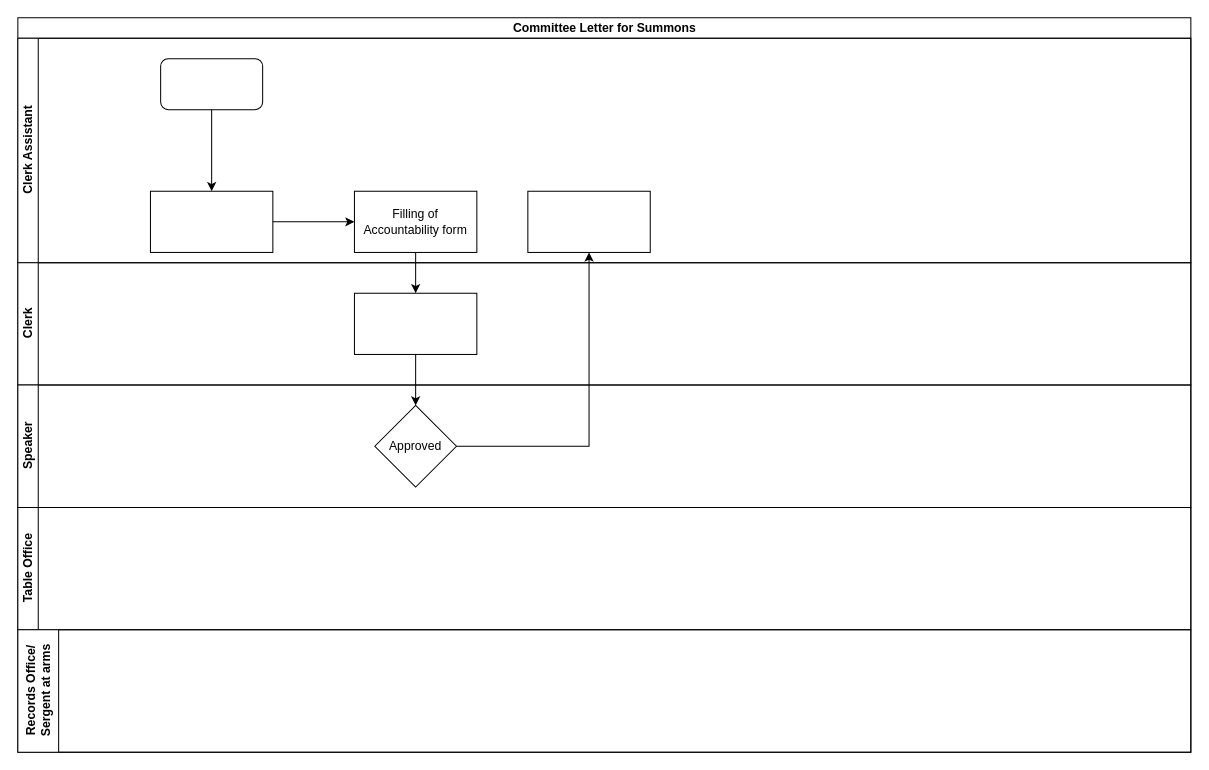
This 1209x770 diagram has some shape labels left out. Each missing label, with the centre of its shape:
"Confirmation to summon" goes at pixel 415 323.
"Drafting letters for summon" goes at pixel 588 221.
"Resolution by Committee to summon" goes at pixel 211 221.
"Start" goes at pixel 211 84.
